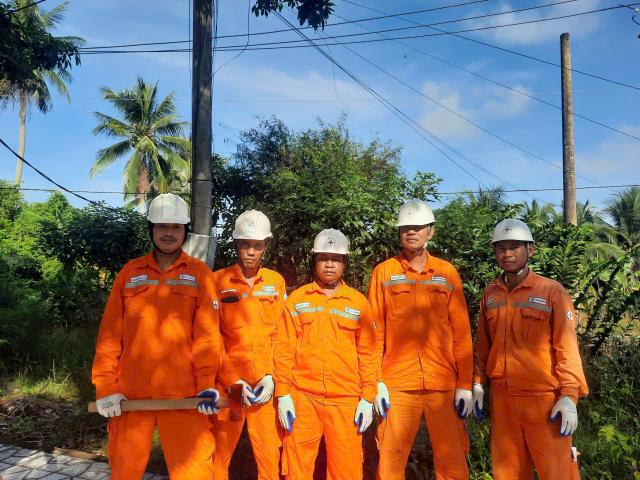gloves: (539, 391, 584, 442), (81, 385, 135, 422), (268, 392, 306, 434), (190, 384, 229, 419), (471, 376, 496, 426), (369, 381, 397, 424), (224, 370, 254, 409), (446, 387, 476, 422), (244, 371, 277, 402), (353, 390, 374, 436)
helmet: (223, 204, 294, 247), (140, 187, 207, 231), (376, 194, 451, 229), (481, 216, 555, 249), (304, 223, 359, 260)
